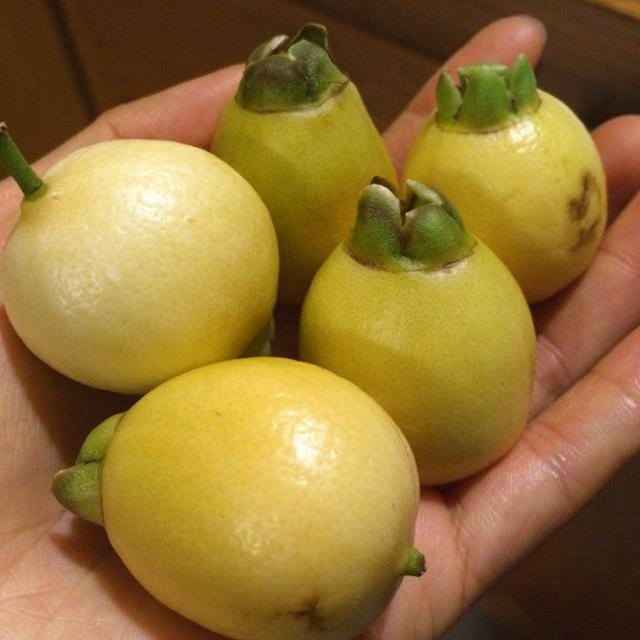Medicinal-Rose Apple: (0, 24, 622, 626)
